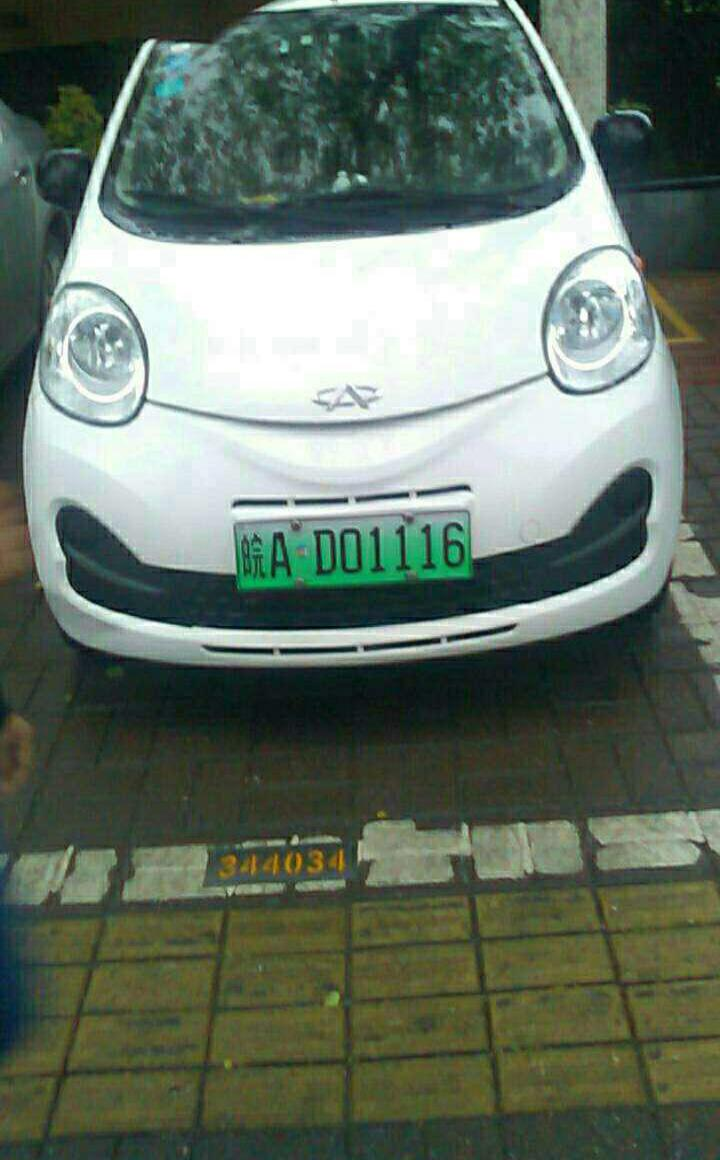car: (235, 519, 491, 602)
